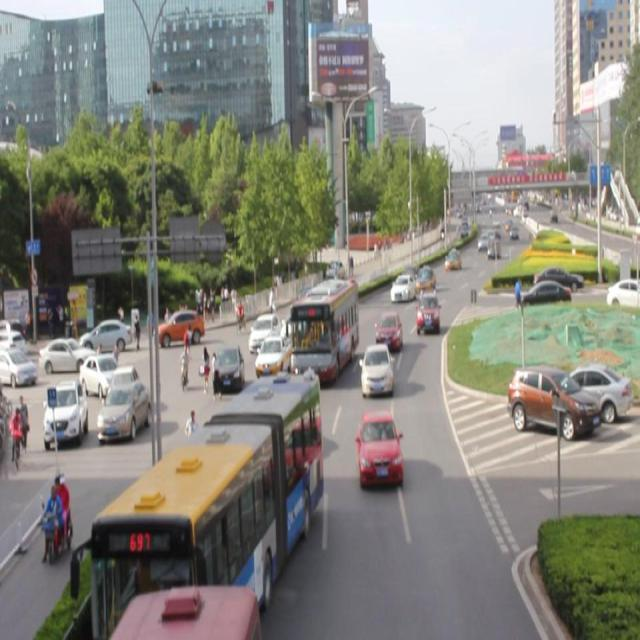car: (357, 411, 402, 486), (253, 363, 297, 423), (211, 337, 245, 392), (360, 341, 392, 397), (280, 303, 313, 346), (254, 334, 290, 372), (247, 309, 281, 349), (375, 311, 401, 349), (415, 289, 438, 330), (390, 272, 414, 300), (413, 265, 434, 294)
van: (85, 380, 321, 621), (114, 584, 261, 640), (293, 277, 357, 376)
